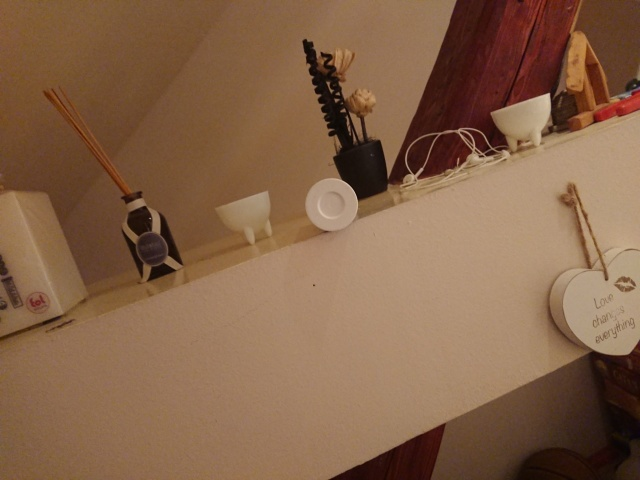Solana Pag Fine Sea Salt 250g: (303, 176, 361, 233)
